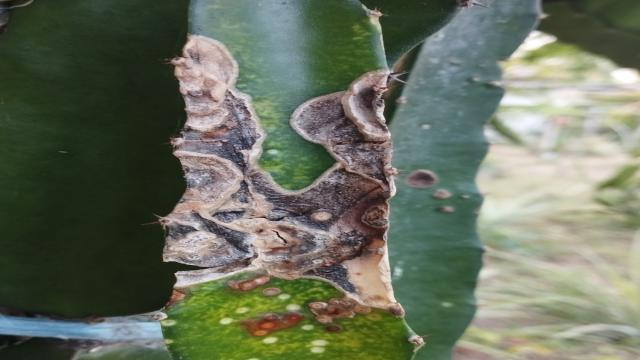stemcanker: (171, 288, 414, 360), (402, 158, 469, 217)
